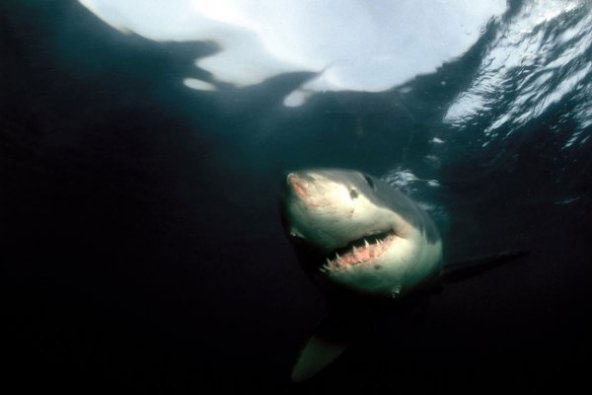Carcharodon_carcharias: (260, 161, 499, 370)
